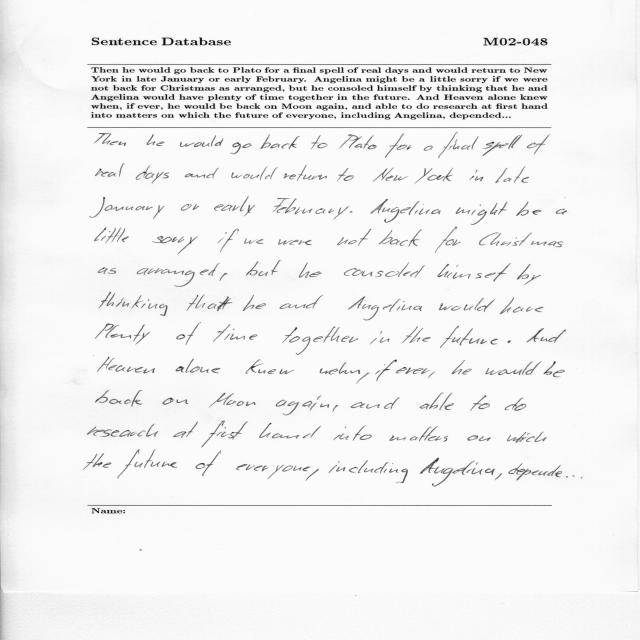word: (283, 326, 359, 355), (420, 458, 495, 487), (137, 263, 220, 287), (329, 460, 408, 484), (348, 296, 422, 321), (118, 450, 178, 479), (371, 199, 441, 223), (273, 198, 349, 220), (99, 292, 168, 316), (90, 197, 165, 219), (437, 263, 511, 282), (344, 262, 425, 278), (440, 326, 498, 348), (479, 233, 563, 248), (201, 421, 248, 447), (456, 202, 508, 225), (96, 323, 150, 345), (236, 464, 310, 479), (438, 132, 479, 158), (276, 396, 329, 416), (259, 423, 321, 439), (98, 357, 155, 374), (88, 424, 159, 437), (508, 464, 562, 481), (152, 236, 198, 255), (390, 427, 448, 442), (483, 135, 523, 156), (96, 390, 143, 407), (485, 361, 542, 375), (439, 298, 495, 312), (214, 197, 255, 216), (379, 229, 422, 247), (213, 325, 257, 342), (187, 295, 233, 311), (246, 359, 295, 374), (500, 298, 543, 315), (283, 165, 327, 181), (209, 393, 255, 408), (435, 227, 461, 253), (176, 358, 221, 373), (350, 397, 400, 410), (196, 451, 222, 476), (385, 134, 412, 158), (136, 165, 169, 184), (280, 295, 324, 309), (415, 168, 453, 184), (527, 328, 567, 343), (232, 167, 278, 180), (94, 227, 129, 244), (261, 135, 300, 150), (496, 166, 530, 183), (337, 229, 371, 246), (420, 393, 454, 410), (339, 135, 377, 150), (334, 426, 372, 441), (246, 260, 281, 276), (176, 323, 201, 345), (217, 229, 239, 253), (180, 135, 223, 147), (527, 134, 551, 155), (373, 168, 409, 182), (517, 264, 541, 285), (402, 326, 431, 343), (320, 363, 361, 375), (375, 359, 397, 381), (507, 431, 547, 443), (84, 453, 112, 470), (173, 421, 198, 438), (94, 133, 126, 146), (95, 164, 125, 177), (185, 168, 219, 179), (299, 262, 322, 278), (243, 295, 266, 311), (516, 202, 542, 216), (544, 361, 565, 377), (470, 395, 490, 411), (370, 331, 390, 345), (452, 360, 472, 374), (505, 398, 526, 411), (230, 143, 252, 155), (311, 135, 328, 150), (396, 367, 430, 374), (337, 168, 354, 181), (147, 134, 165, 146), (278, 239, 312, 245), (556, 197, 567, 215), (163, 398, 189, 405), (356, 372, 370, 384), (306, 469, 319, 481), (470, 170, 484, 181), (467, 435, 491, 441), (181, 204, 199, 211), (99, 267, 117, 274), (244, 238, 264, 244), (220, 273, 228, 281), (495, 473, 502, 480), (424, 146, 433, 151), (428, 372, 435, 378), (333, 405, 339, 412), (566, 475, 574, 478), (507, 340, 511, 343), (350, 211, 352, 213)
